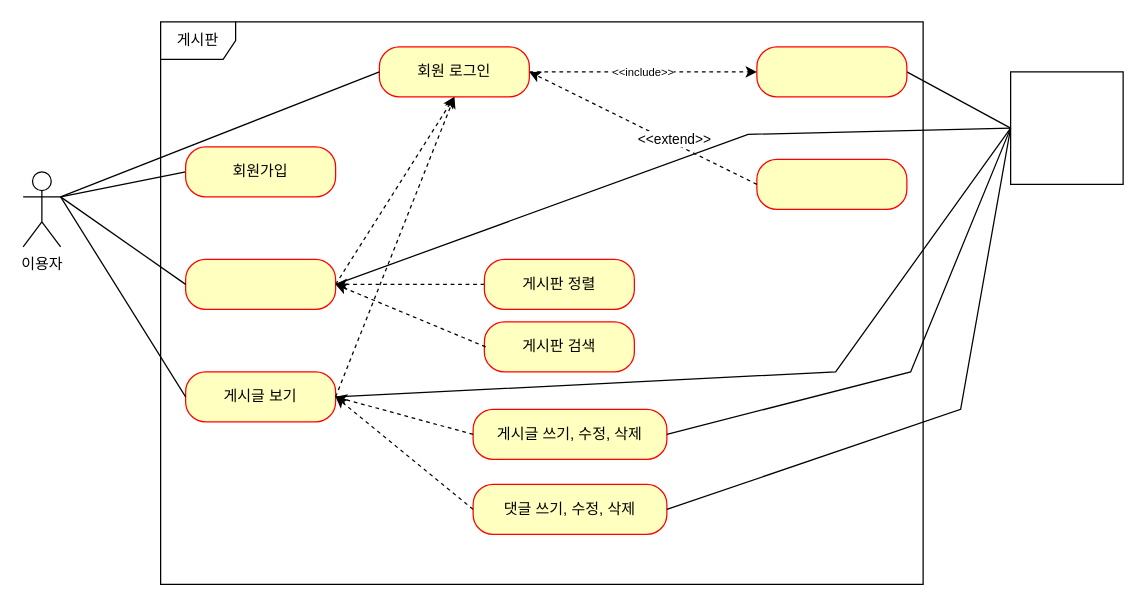
Some shapes in this 1145 by 606 pixel diagram are drawn without their labels. Here are the shapes that lost their labels. From the top down, the centre of each, then its label:
At pixel 831 71: "인증".
At pixel 1066 127: "DB".
At pixel 831 183: "로그인 실패".
At pixel 260 283: "게시판보기".
